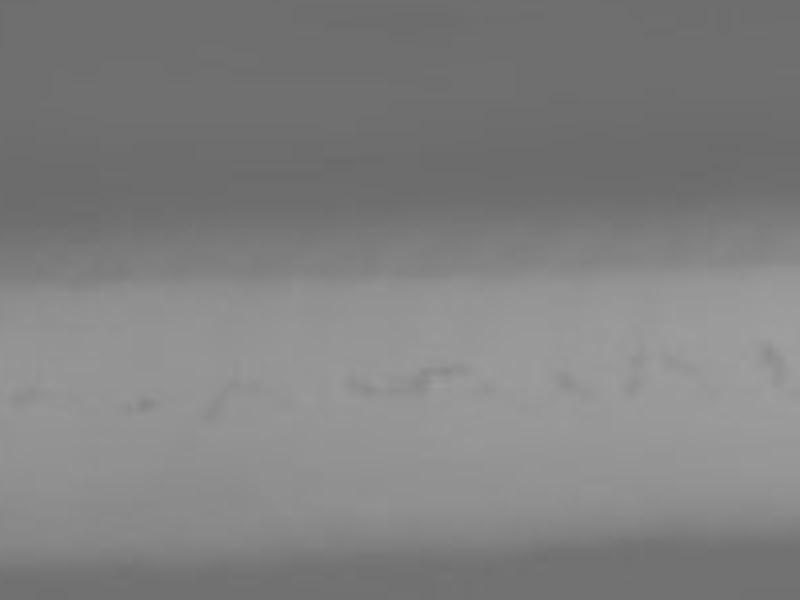defect: (406, 363, 471, 398), (748, 343, 785, 386), (339, 366, 378, 397), (209, 371, 230, 420), (557, 363, 592, 392), (625, 345, 646, 392), (8, 385, 43, 405), (126, 392, 153, 411)
